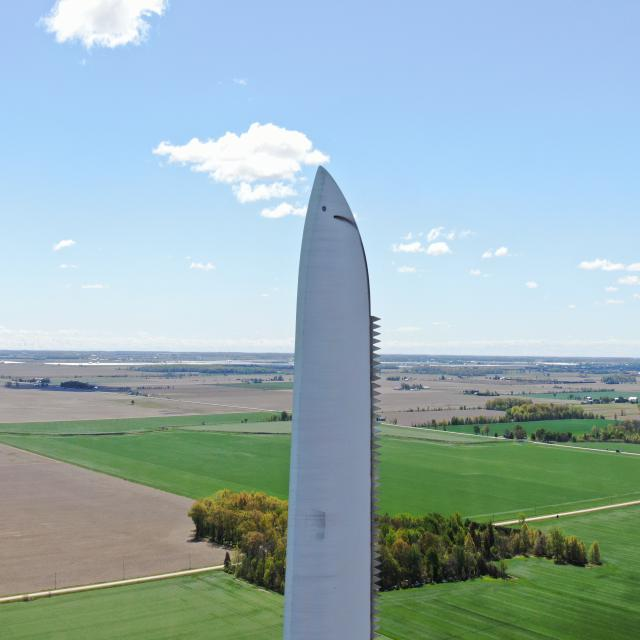damage: (332, 205, 361, 233)
